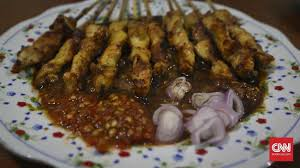sate: (21, 1, 296, 152)
